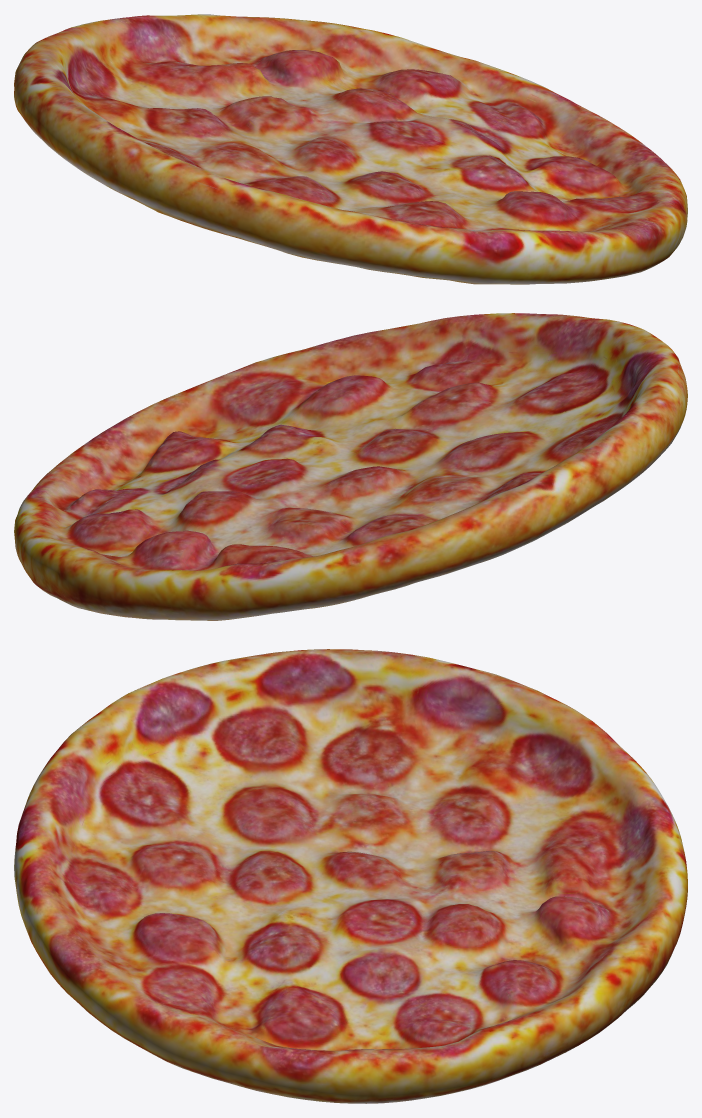
3 renders of one model, top to bottom at view 1: azimuth 30°, elevation 25°; view 2: azimuth 150°, elevation 25°; view 3: azimuth 270°, elevation 25°, orthographic. The views are drawn at different scales.
Parts seen in each view (by area): view 1: mesh_base_material_0; view 2: mesh_base_material_0; view 3: mesh_base_material_0.
Part boxes in pixels (bbox=[...]): mesh_base_material_0: bbox=[14, 14, 687, 284]; mesh_base_material_0: bbox=[14, 313, 687, 620]; mesh_base_material_0: bbox=[14, 649, 687, 1103].
Bounding box in the file's own units: 0.9658 × 0.3283 × 0.9995.
Materials: 1 (1 with a texture image).
